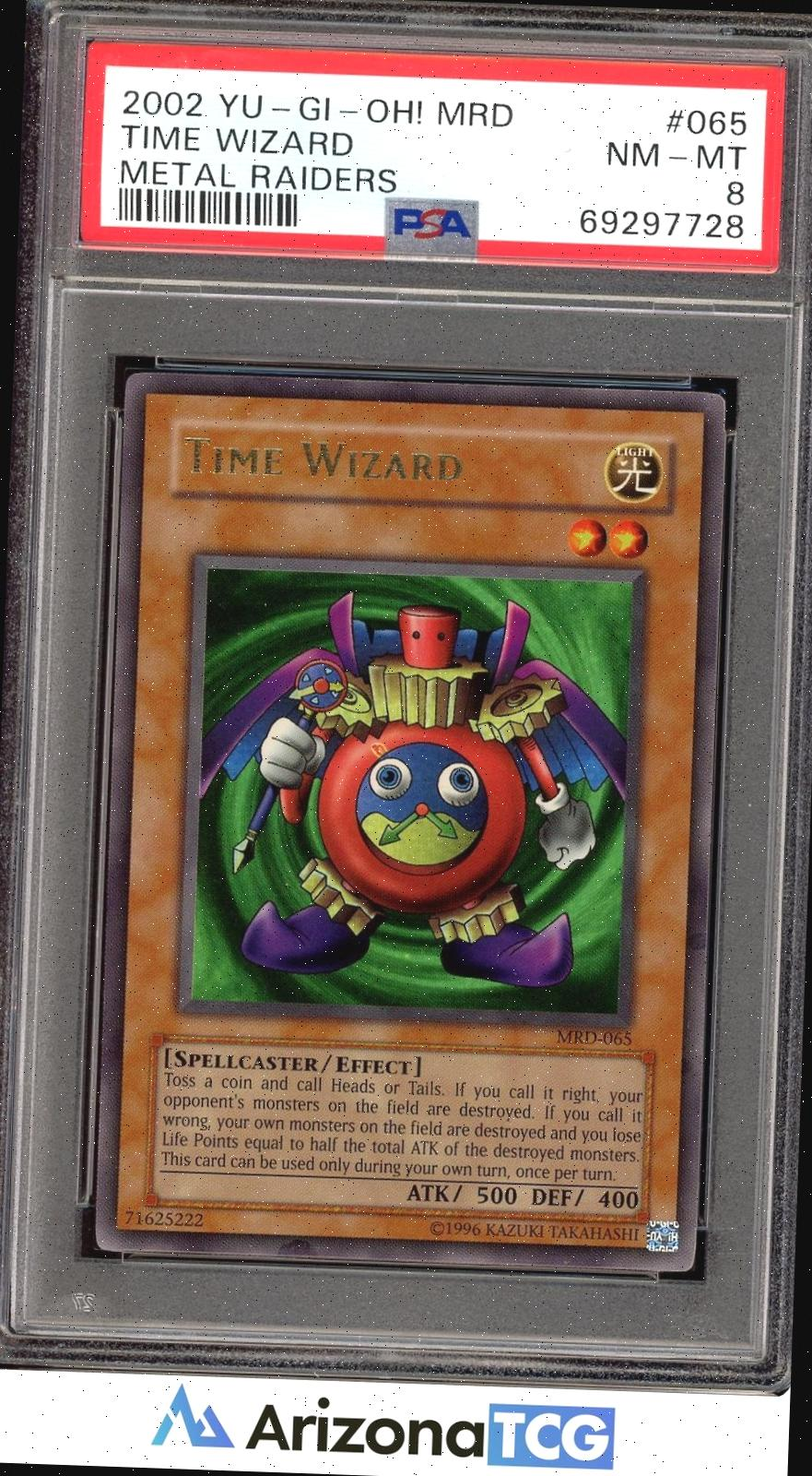card-2UtV: (94, 371, 725, 1271)
